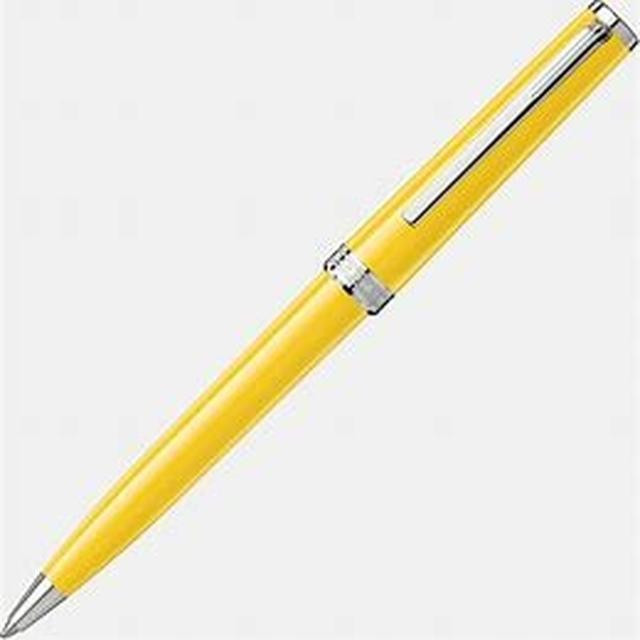pen: (4, 11, 627, 632)
